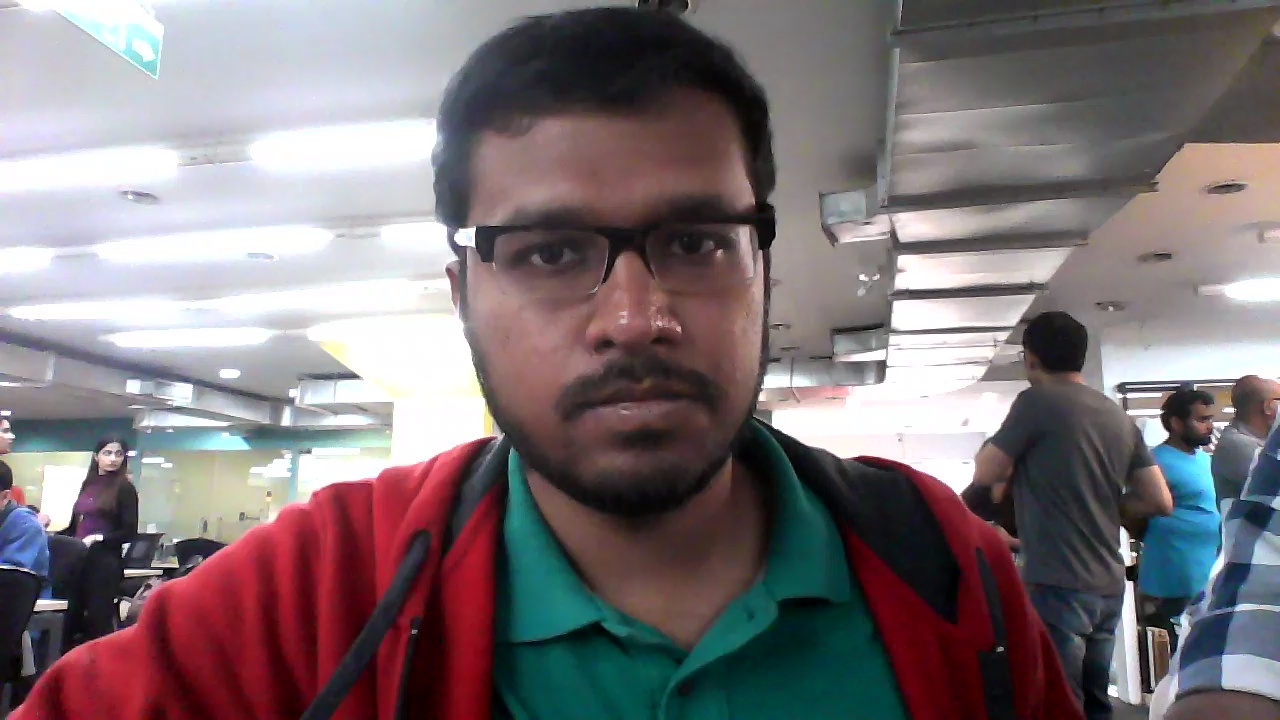open: (432, 1, 784, 519)
